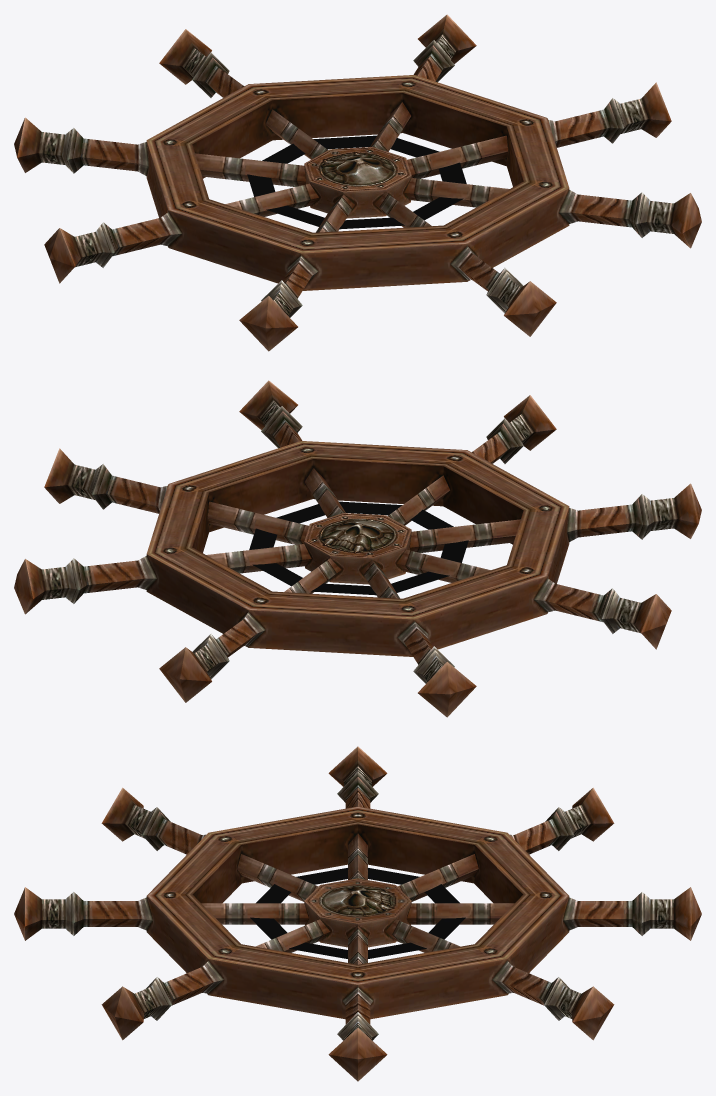
File: hangxingduo.obj
The picture shows the model from 3 angles, top to bottom: view 1: azimuth 30°, elevation 25°; view 2: azimuth 150°, elevation 25°; view 3: azimuth 270°, elevation 25°; orthographic projection. The views are drawn at different scales.
Parts seen in each view (by area): view 1: hangxingduo; view 2: hangxingduo; view 3: hangxingduo.
Boxes of the visible parts, box(x1,y1,x2,y2) form: hangxingduo: box(14, 14, 701, 351); hangxingduo: box(14, 380, 701, 717); hangxingduo: box(14, 746, 701, 1081).
Bounding box in the file's own units: 66.87 × 5.81 × 66.87.
2 materials, 2 textured.
